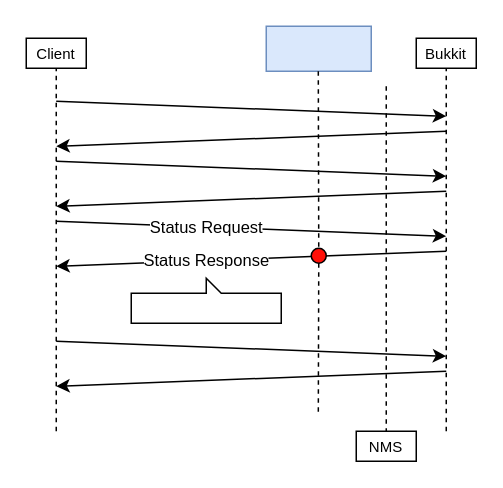
The diagram is 503 pixels wide and 488 high, and some of its shapes have lost their labels. The shapes that lost their labels are listed below. From the top down, each one's centre as x and y in pixels, then its label:
(318,48): NoEncryption (S -> C)
(205,300): "enforcesSecureChat": " false "
